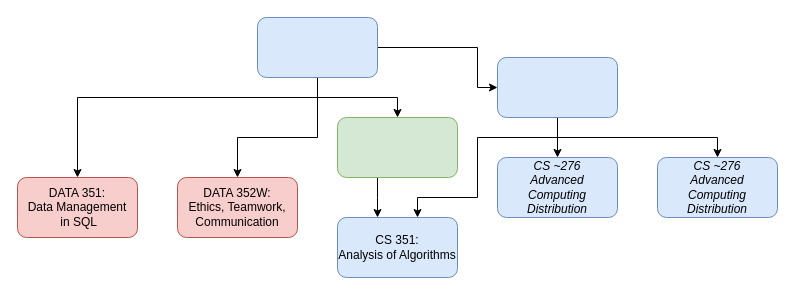
Image size: 795x295. Some labels were removed from this diagram. The shapes that lost their labels are listed below. From the top down, each one's box as (x1, y1, x2, y2) in pixels, then its label:
(256, 16, 378, 78): CS 151: Intro to Programming in Python
(496, 56, 618, 118): CS 152: Data Structures
(336, 116, 458, 178): MATH 251W: Foundations of Advanced Mathematics
